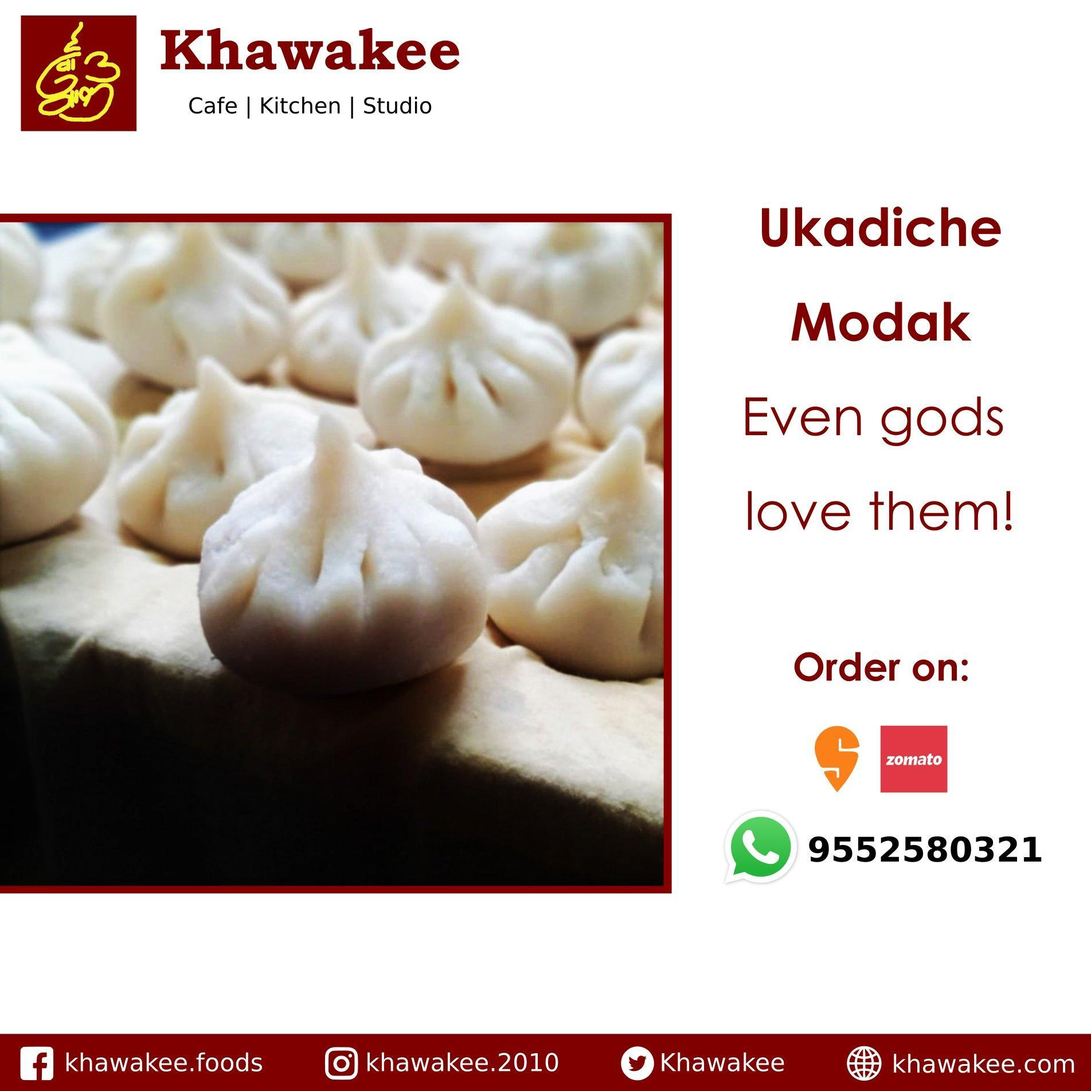modak: (1, 233, 645, 659)
